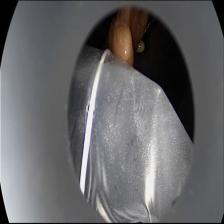Specimen Bag: (69, 42, 198, 223)
